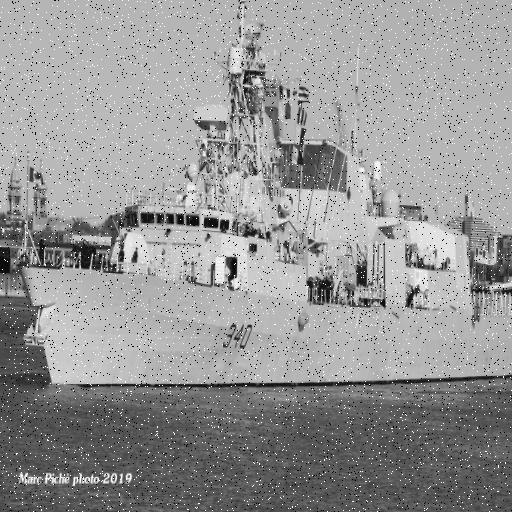Fragata: (17, 1, 512, 397)
